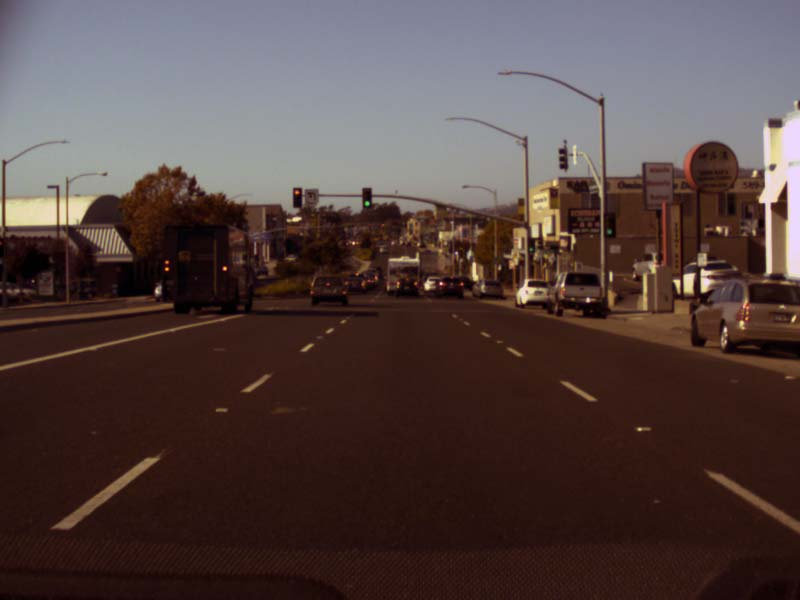Green: (604, 213, 614, 237), (362, 188, 371, 207), (528, 238, 534, 252)
Red: (293, 189, 300, 207)
